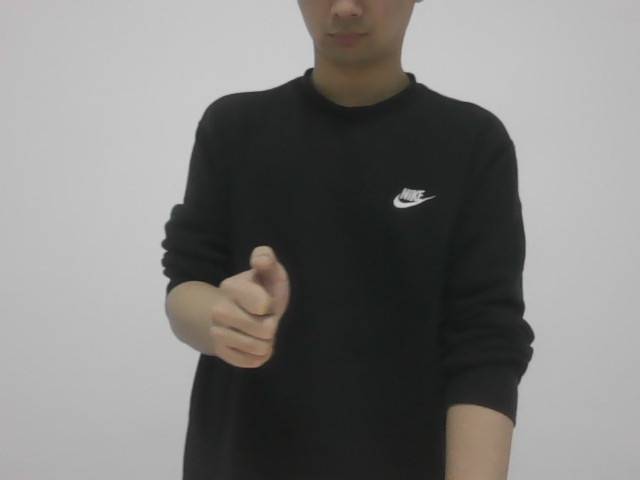thank you: (207, 247, 294, 373)
